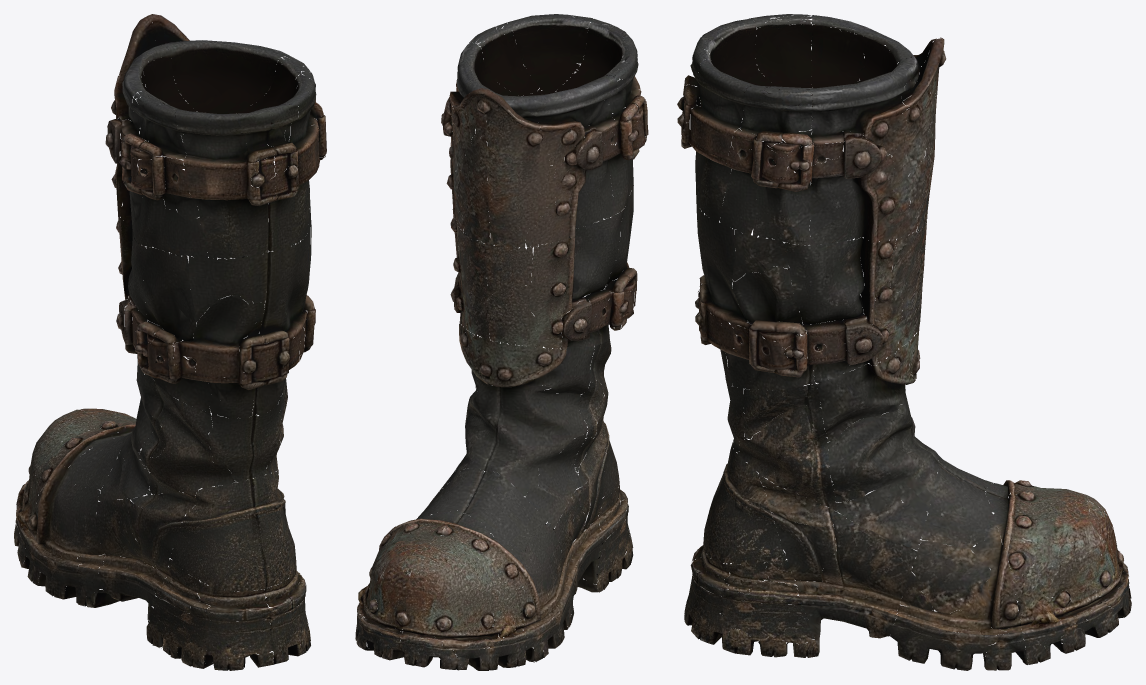
The model's file is a_sluice_boots.glb.
3 renders of one model, left to right at view 1: azimuth 30°, elevation 25°; view 2: azimuth 150°, elevation 25°; view 3: azimuth 270°, elevation 25°, orthographic. The views are drawn at different scales.
Visible parts, largest first — view 1: tripo_node_892a7d13-8db3-4021-8cfb-fa8c4bf19114; view 2: tripo_node_892a7d13-8db3-4021-8cfb-fa8c4bf19114; view 3: tripo_node_892a7d13-8db3-4021-8cfb-fa8c4bf19114.
Boxes of the visible parts, x1,y1,x2,y2 form: tripo_node_892a7d13-8db3-4021-8cfb-fa8c4bf19114: (14,14,326,670); tripo_node_892a7d13-8db3-4021-8cfb-fa8c4bf19114: (355,14,648,670); tripo_node_892a7d13-8db3-4021-8cfb-fa8c4bf19114: (677,14,1131,670).
Bounding box in the file's own units: 0.3507 × 0.98 × 0.6864.
1 material, 1 textured.
